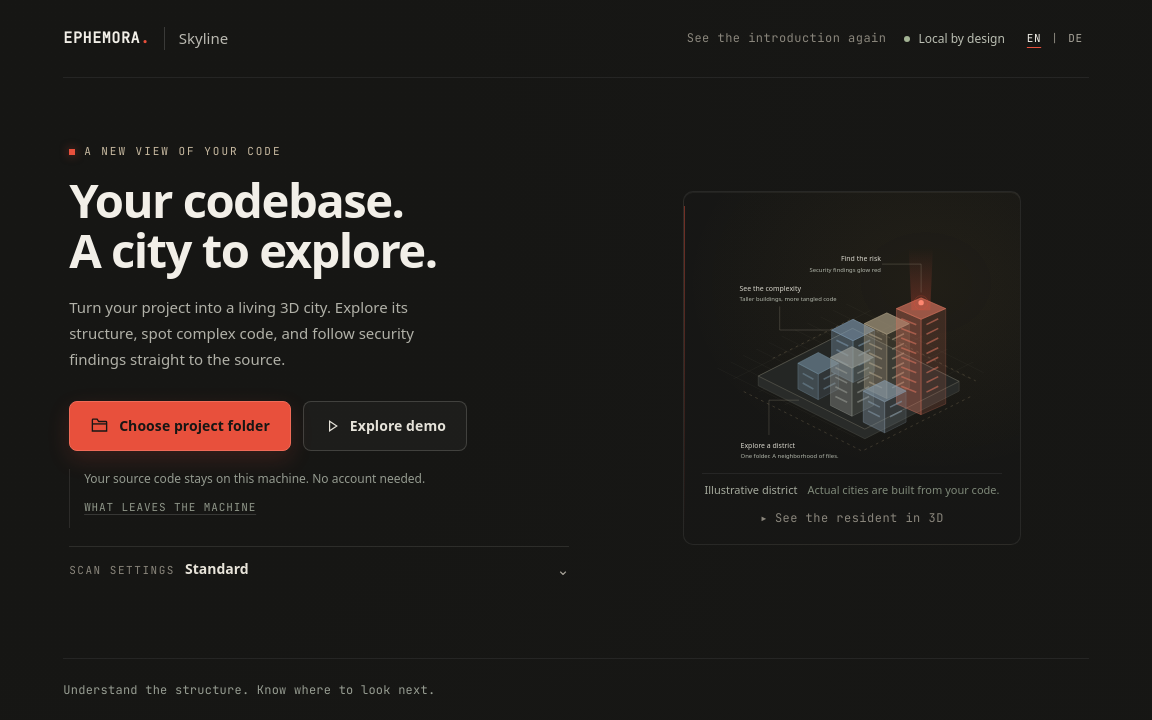
Test: the introduction can be asked for again (§03.11) › walks the same two beats and ends back on the plain landing
Step 1. Click the button with class "start-replay" → (787,38), box [685,24,888,52]
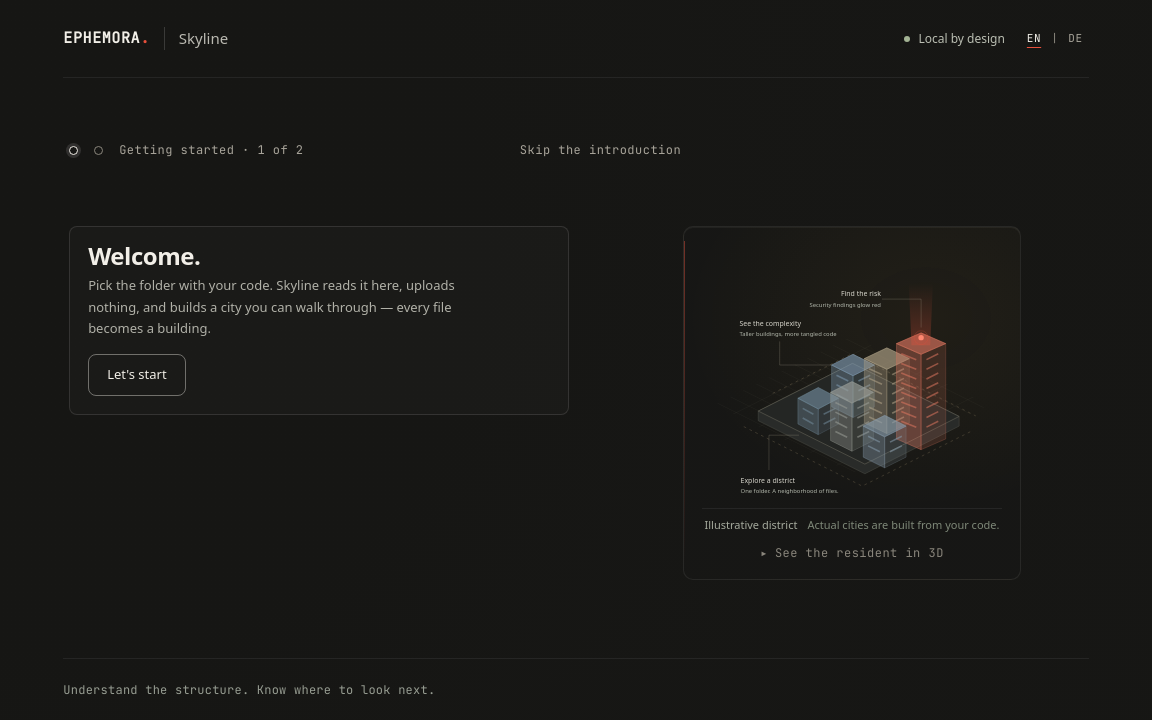
Step 2. Click the button with class "landing-welcome-begin" → (137,375), box [88,354,186,396]
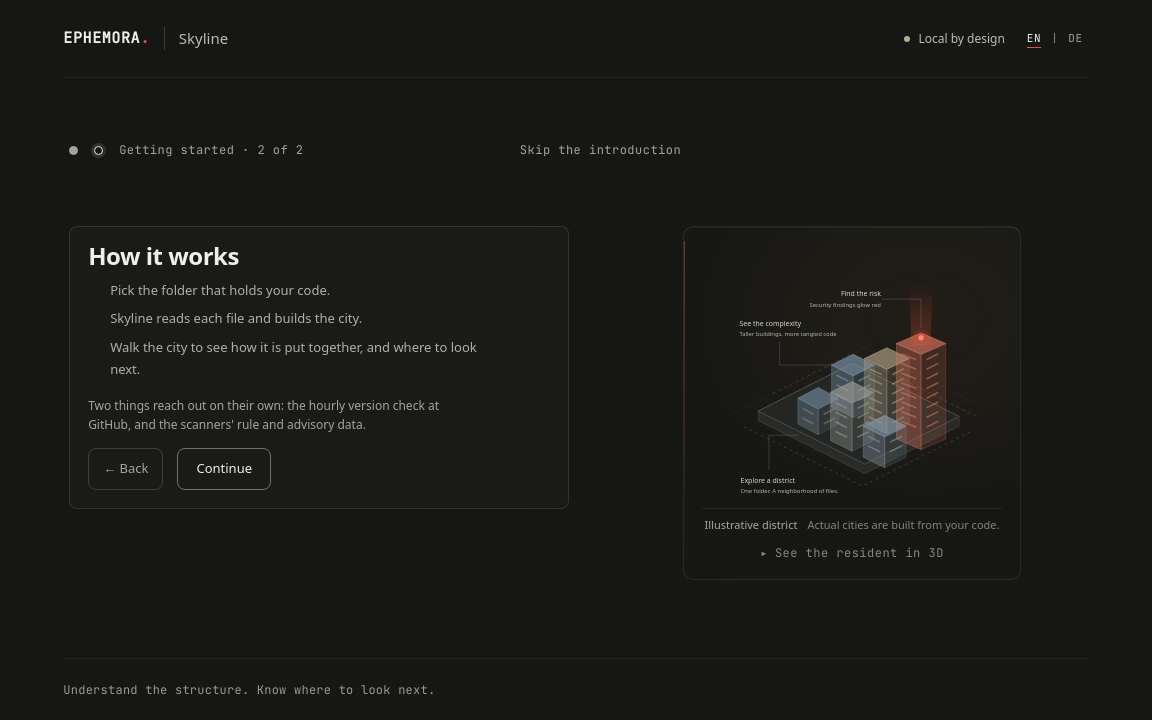
Step 3. Click the button "Continue" → (224,469), box [178,448,271,490]
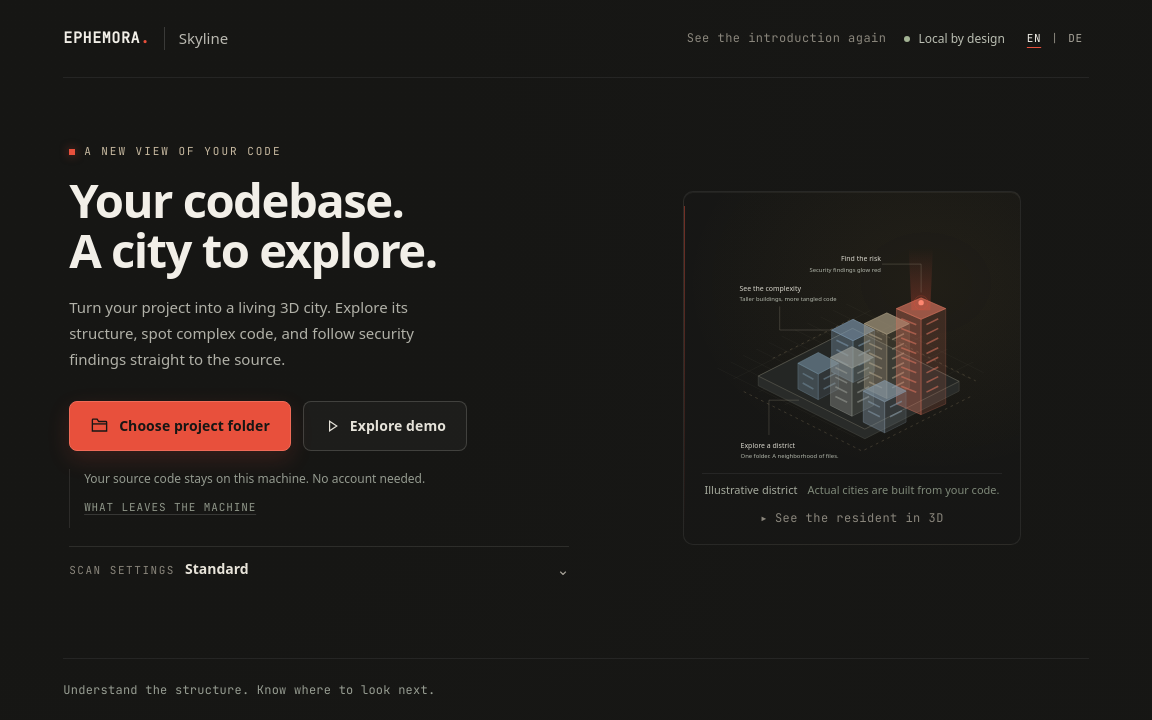
Expected: the element with class "landing-guide" is gone
Expected: the navigation bar with class "start-progress-steps" is gone
Expected: the button with class "start-replay" is shown, [685,24,888,52]
